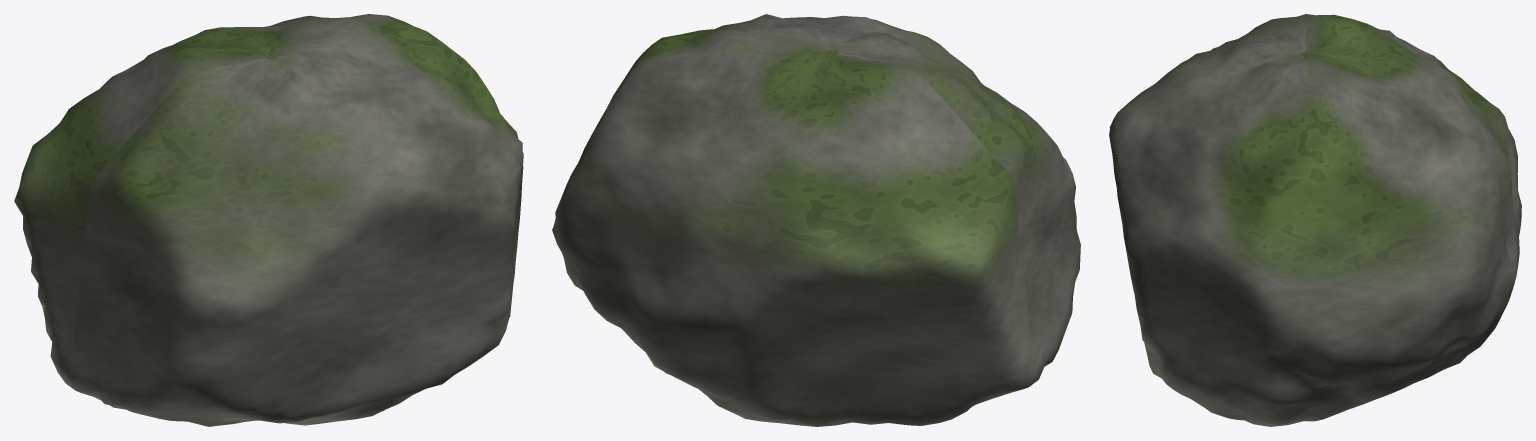
Rendered from PZ_R08_Massive_Moss_Boulder_Moss.glb.
3 views of the same model, side by side, from view 1: azimuth 30°, elevation 25°; view 2: azimuth 150°, elevation 25°; view 3: azimuth 270°, elevation 25° (orthographic). The views are drawn at different scales.
Parts seen in each view (by area): view 1: RENDER_R08_Massive_Moss_Boulder_Moss; view 2: RENDER_R08_Massive_Moss_Boulder_Moss; view 3: RENDER_R08_Massive_Moss_Boulder_Moss.
Part boxes in pixels (<box>): RENDER_R08_Massive_Moss_Boulder_Moss: <box>14,14,523,426</box>; RENDER_R08_Massive_Moss_Boulder_Moss: <box>552,14,1080,426</box>; RENDER_R08_Massive_Moss_Boulder_Moss: <box>1109,14,1521,426</box>.
Bounding box in the file's own units: 3 × 2.16 × 2.55.
Materials: 1 (1 with a texture image).
